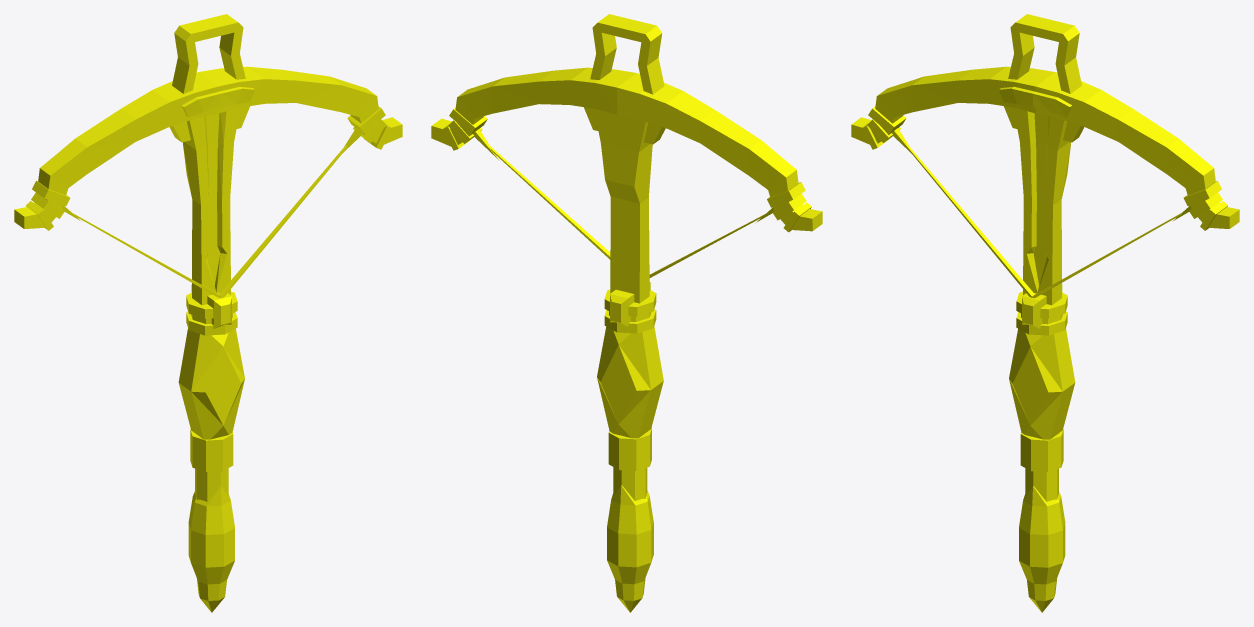
The model's file is _crossbow_13.glb.
3 renders of one model, left to right at view 1: azimuth 30°, elevation 25°; view 2: azimuth 150°, elevation 25°; view 3: azimuth 330°, elevation 25°, orthographic.
Visible parts, largest first — view 1: crossbow_13; view 2: crossbow_13; view 3: crossbow_13.
Boxes of the visible parts, x1=… form: crossbow_13: x1=14, y1=14, x2=402, y2=612; crossbow_13: x1=431, y1=14, x2=822, y2=612; crossbow_13: x1=851, y1=14, x2=1239, y2=612.
Bounding box in the file's own units: 0.6491 × 0.9614 × 0.0819.
1 material, 1 textured.
